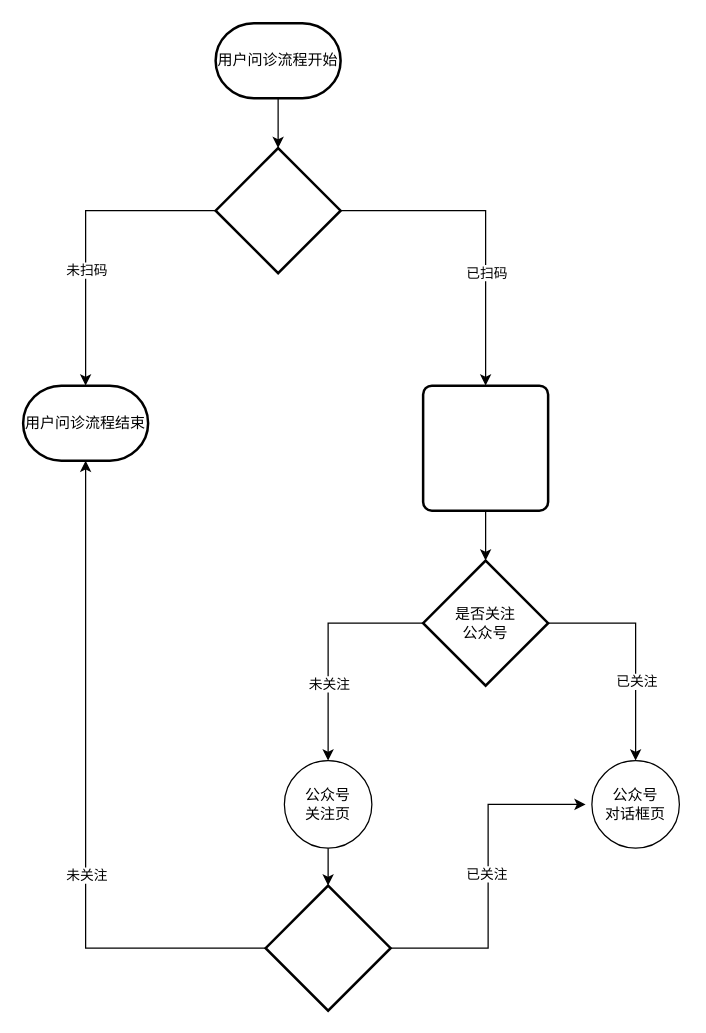
This 706x1033 diagram has some shape labels left out. The centre of each missing label's shape, as x and y in pixels:
"是否扫码 医生 二维码" goes at point 277,210.
"点击关注 公众号" goes at point 327,947.
"跳转金柏河 微信公众号" goes at point 485,447.
